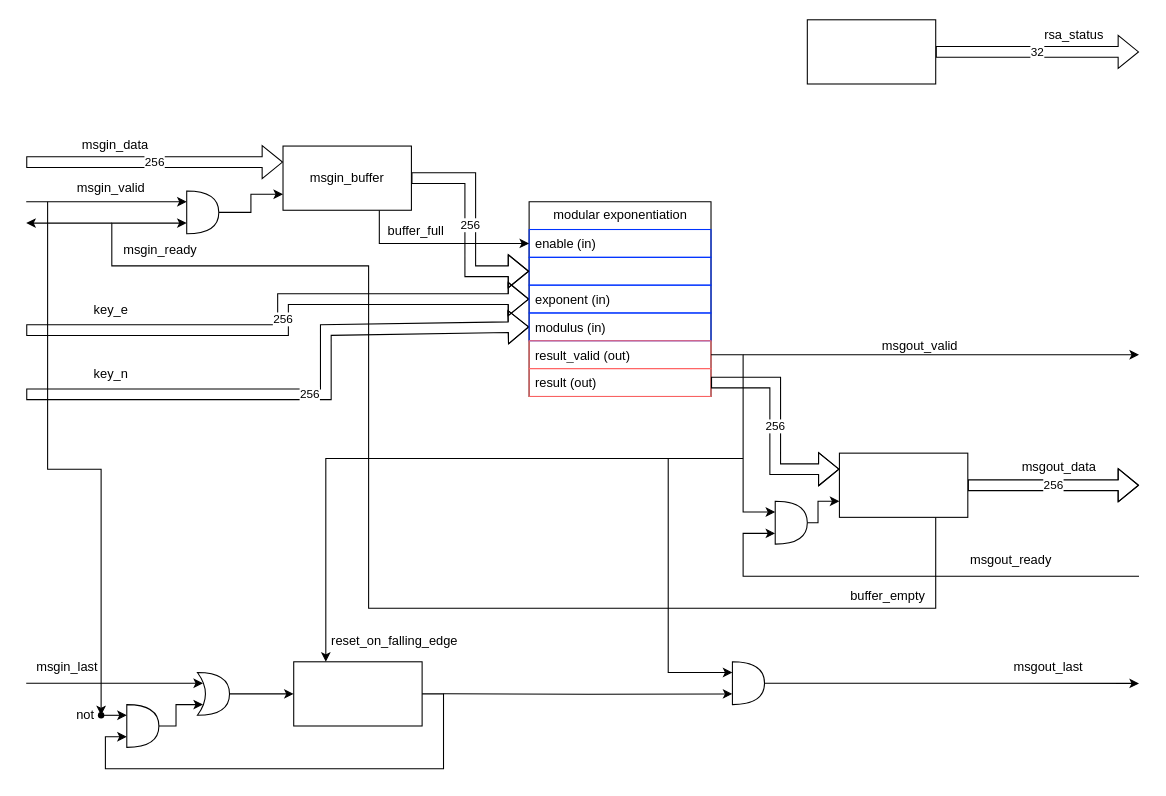
This 1166x796 diagram has some shape labels left out. Here are the shapes that lost their labels. From the top down, the centre of each, then its label:
At (x=871, y=51): "rsa_status_register".
At (x=619, y=270): "base (in)".
At (x=903, y=484): "msgout_buffer".
At (x=357, y=693): "msgin_last_flip_flop".
